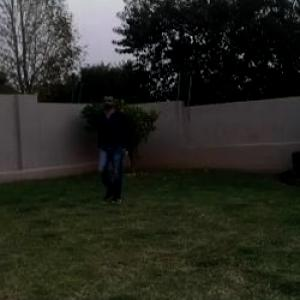follow: (94, 89, 133, 212)
